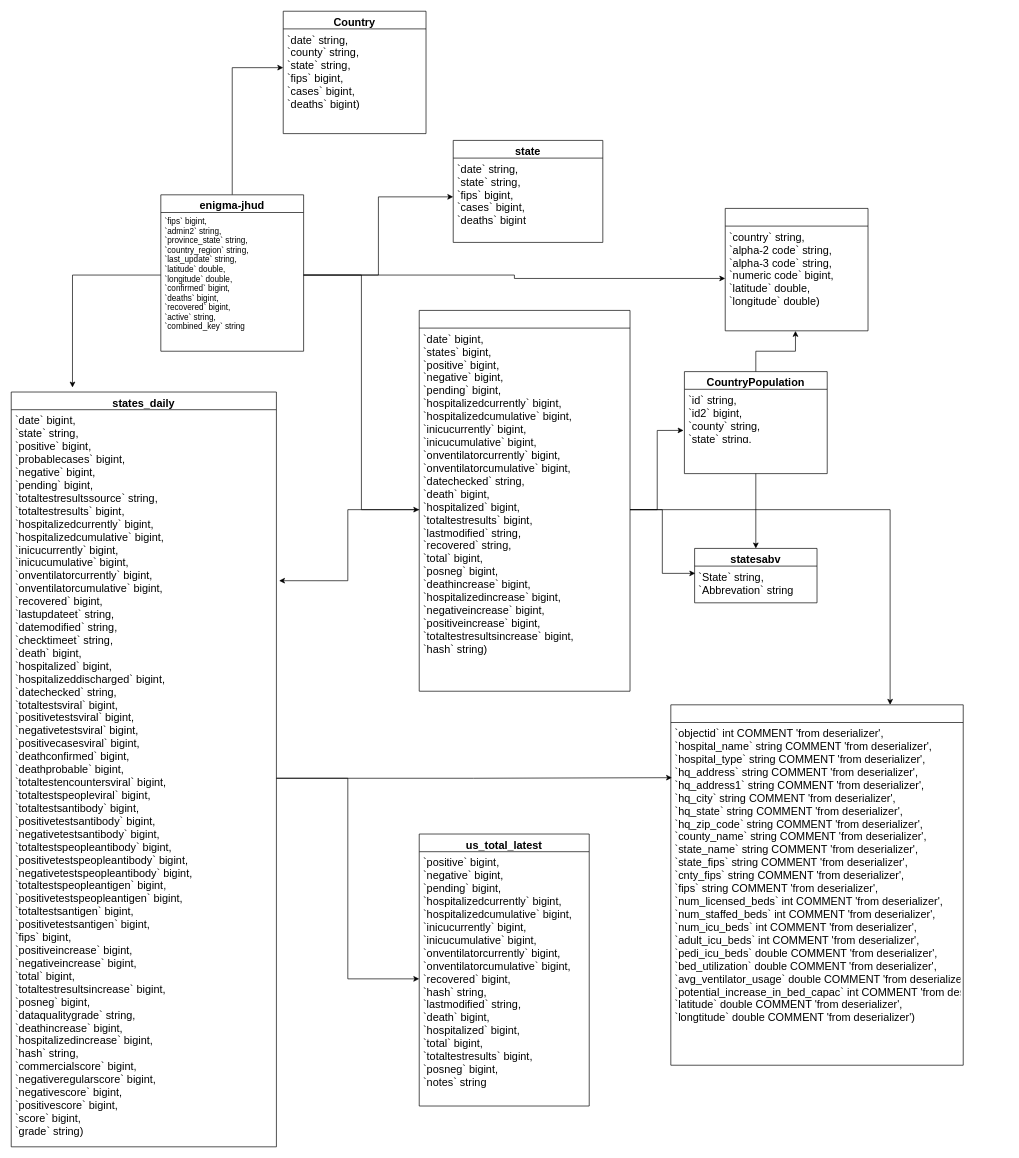
Some shapes in this 1019 by 1158 pixel diagram are drawn without their labels. Each missing label, with the box of its shape:
CountryCode: (725, 208, 868, 331)
rearc_usa_hospital_beds: (670, 704, 963, 1065)
us_daily: (419, 310, 630, 691)
